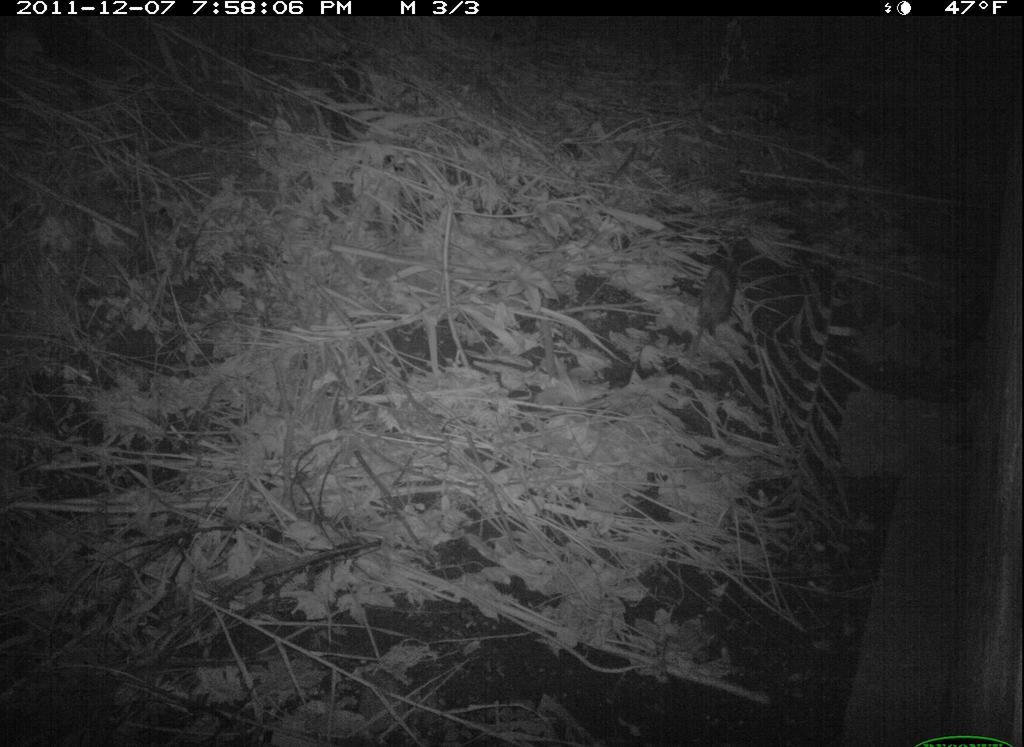opossum: (662, 251, 745, 390)
